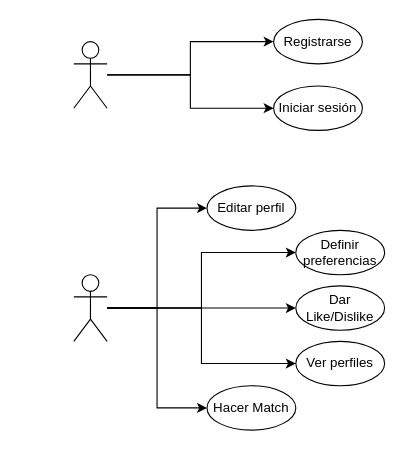
The diagram is 404 pixels wide and 450 high, and some of its shapes have lost their labels. Each missing label, with the box of its shape:
Usuario(autenticado): (73, 274, 107, 341)
Usuario(no autenticado): (73, 41, 107, 108)
